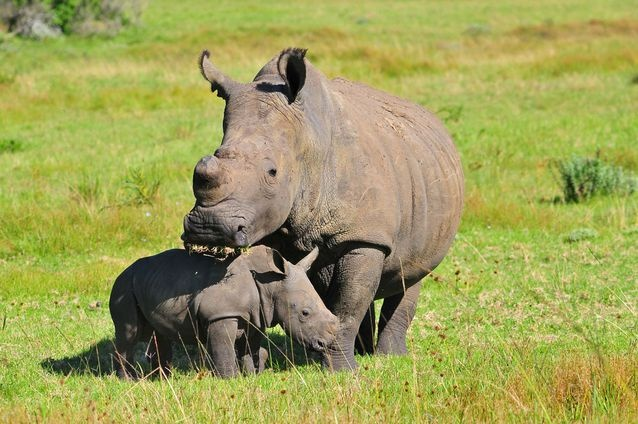rhino: (188, 48, 466, 367), (106, 243, 351, 381)
